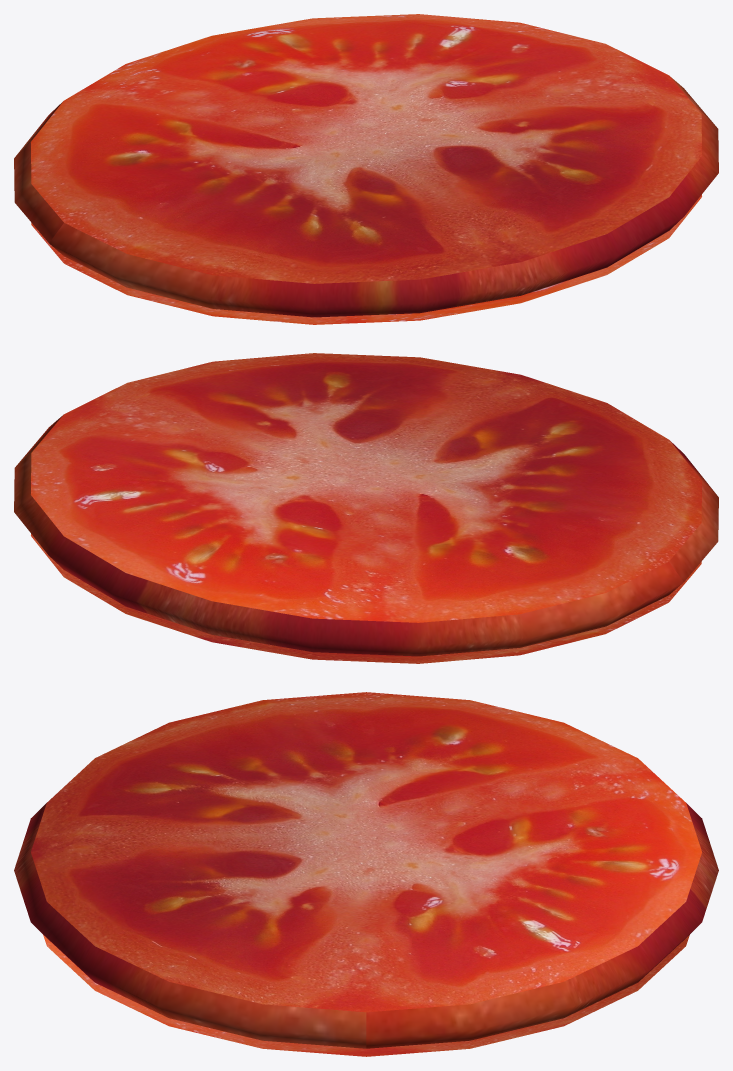
Rendered from tomato_FBX.fbx.
3 renders of one model, top to bottom at view 1: azimuth 30°, elevation 25°; view 2: azimuth 150°, elevation 25°; view 3: azimuth 270°, elevation 25°, orthographic. The views are drawn at different scales.
Visible parts, largest first — view 1: polySurface12; view 2: polySurface12; view 3: polySurface12.
Boxes of the visible parts, x1,y1,x2,y2 form: polySurface12: (14,14,718,324); polySurface12: (14,353,718,663); polySurface12: (14,692,718,1056).
Bounding box in the file's own units: 234 × 23.7 × 207.
